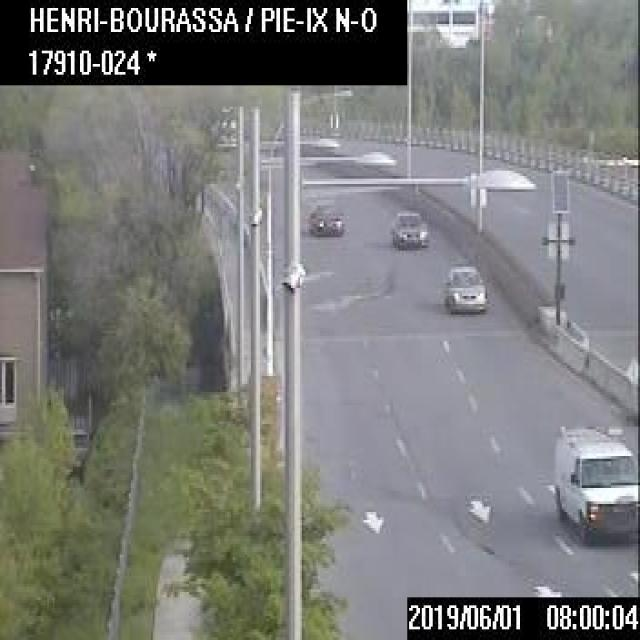vehicle: (553, 427, 638, 544), (444, 264, 486, 312), (389, 208, 427, 248), (306, 197, 344, 235)
